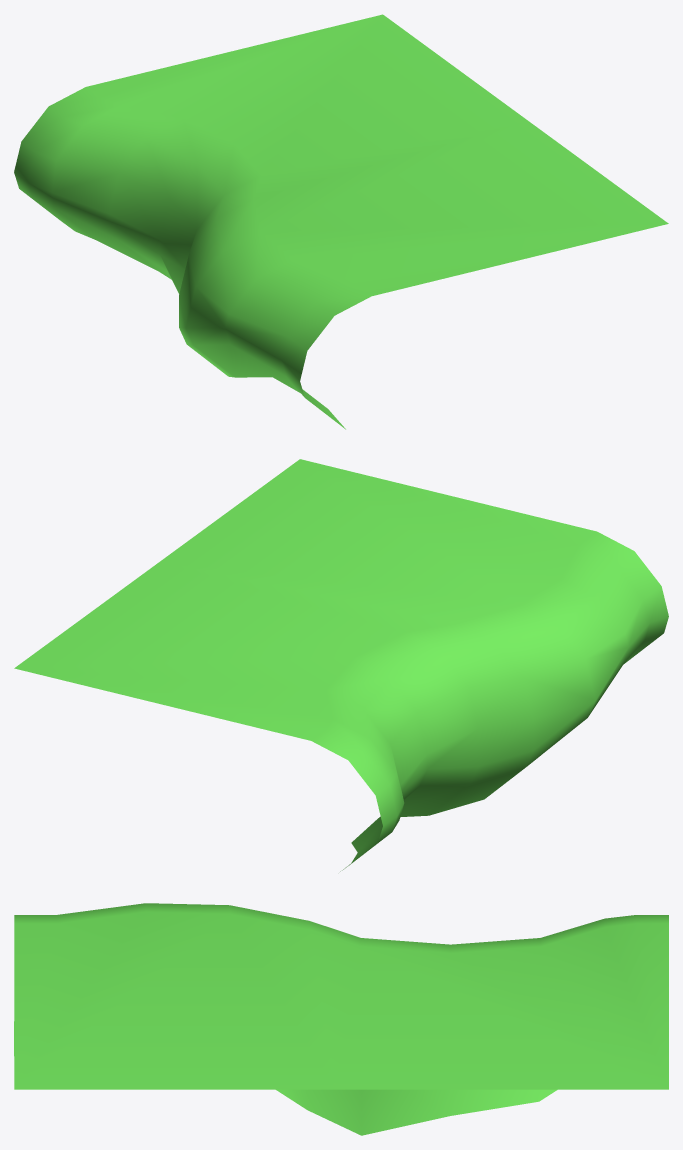
Rendered from Grass_Edge_Mesh.fbx.
3 views of the same model, one above another, from view 1: azimuth 30°, elevation 25°; view 2: azimuth 150°, elevation 25°; view 3: azimuth 270°, elevation 25° (orthographic). The views are drawn at different scales.
Visible parts, largest first — view 1: Grass_Edge; view 2: Grass_Edge; view 3: Grass_Edge.
Part boxes in pixels (box(x1,y1,x2,y2)): Grass_Edge: box(14, 14, 668, 429); Grass_Edge: box(14, 459, 668, 871); Grass_Edge: box(14, 903, 668, 1135).
Bounding box in the file's own units: 157 × 200 × 68.36.
